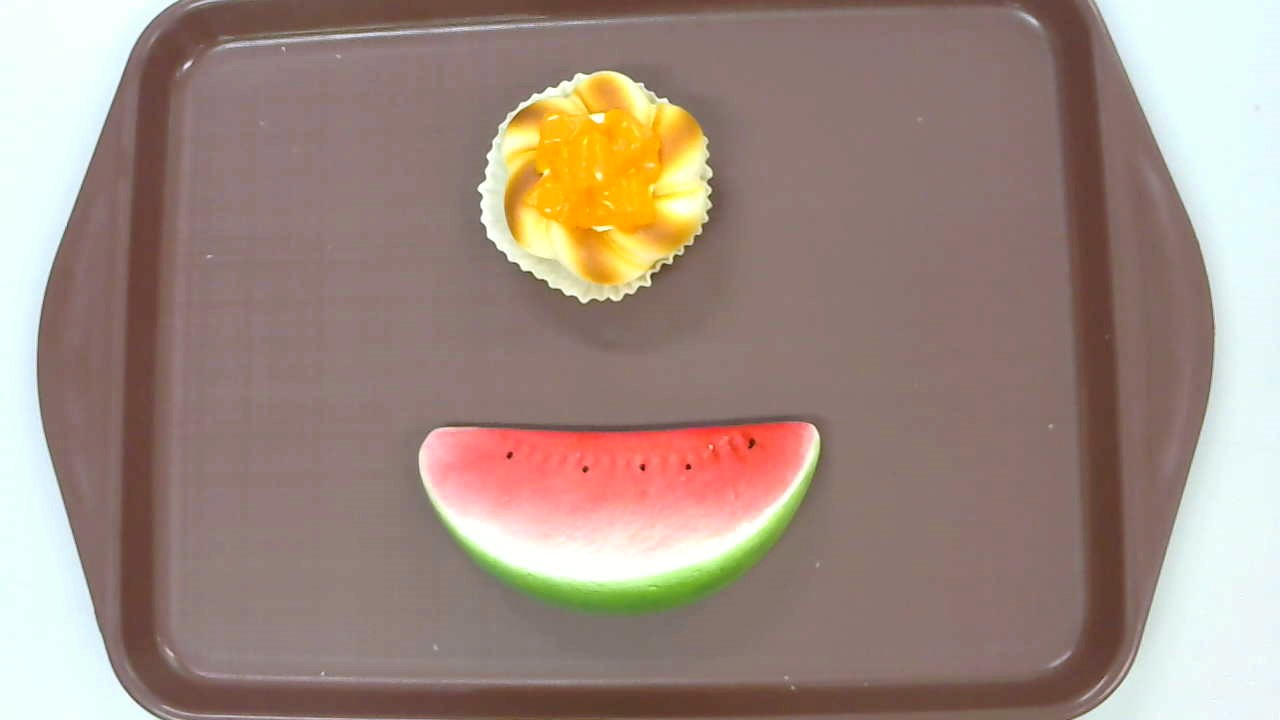mango tart: (477, 69, 714, 307)
water melon: (416, 420, 822, 613)
